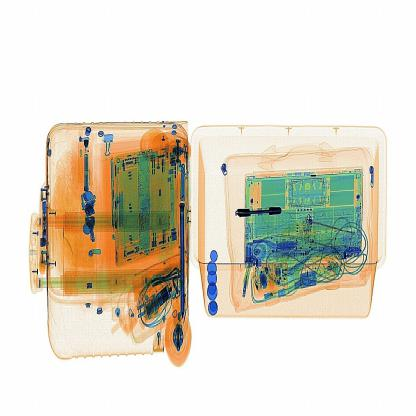knife: (235, 202, 286, 220)
